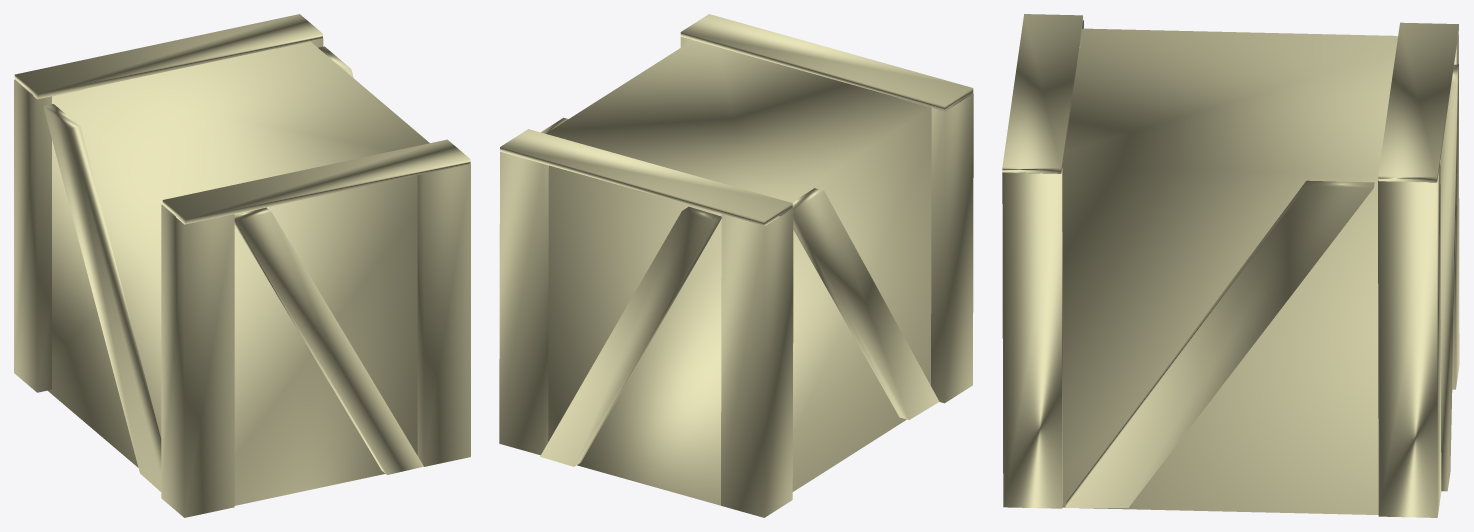
File: small box.fbx
3 renders of one model, left to right at view 1: azimuth 30°, elevation 25°; view 2: azimuth 150°, elevation 25°; view 3: azimuth 270°, elevation 25°, orthographic. The views are drawn at different scales.
Parts seen in each view (by area): view 1: rdmobj1143.001; view 2: rdmobj1143.001; view 3: rdmobj1143.001.
Boxes of the visible parts, x1,y1,x2,y2 form: rdmobj1143.001: (14, 14, 470, 517); rdmobj1143.001: (499, 14, 973, 517); rdmobj1143.001: (1002, 14, 1459, 517).
Bounding box in the file's own units: 54.75 × 53.71 × 64.07.
